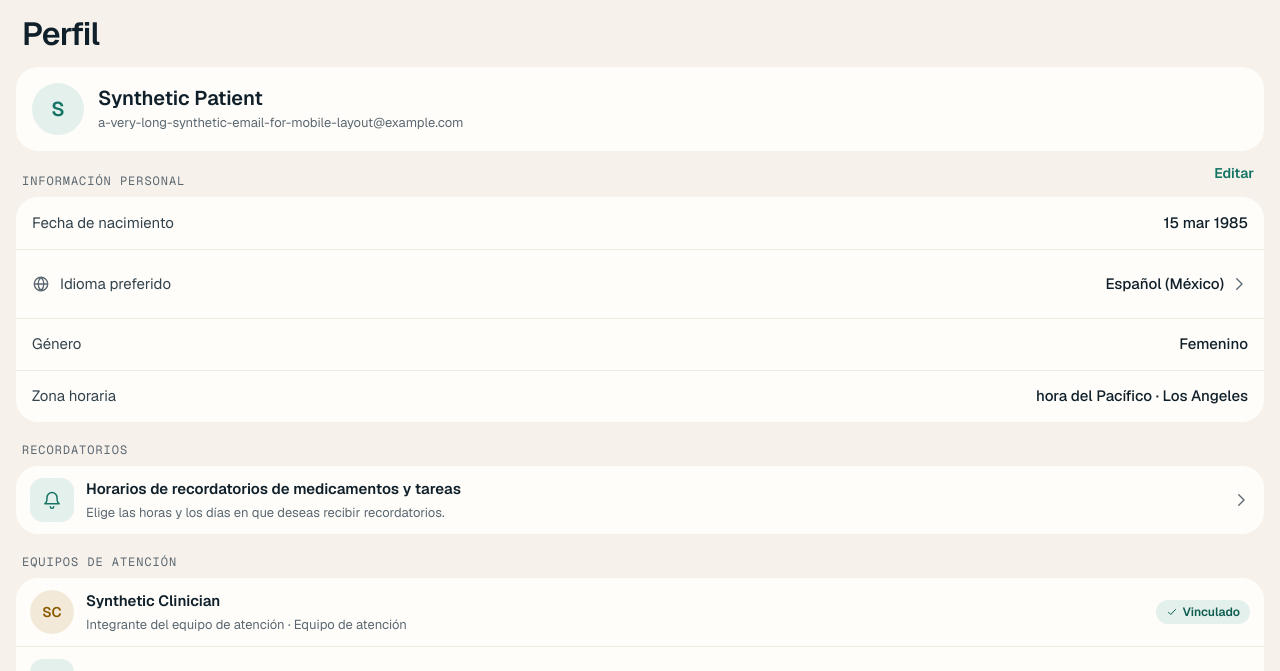
Patient profile page › keeps compact settings actions and helpers in es-MX
expect the link with aria-label "Administrar recordatorios" shows "Elige las horas y los días": met, box [16, 466, 1264, 534]
Click the button with aria-label "Editar perfil".
click(1234, 173)  # box [1204, 151, 1264, 195]
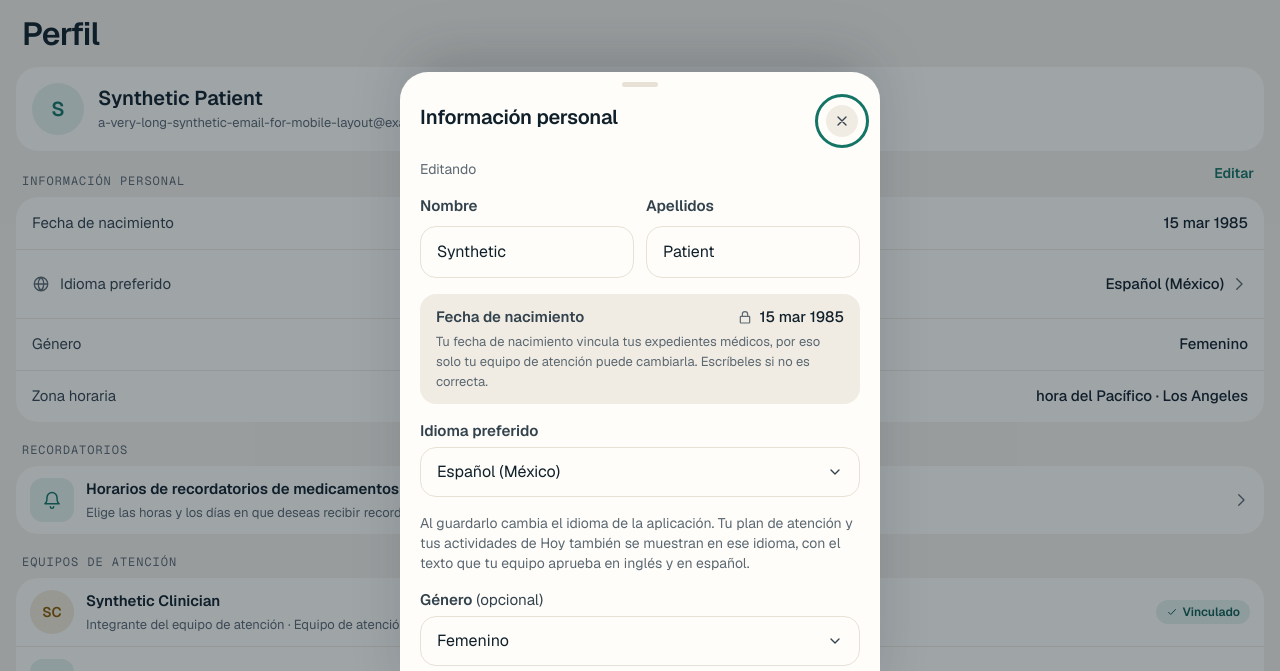
expect the number of dropdowns is 2: met, box [420, 447, 860, 497]; [420, 616, 860, 666]
